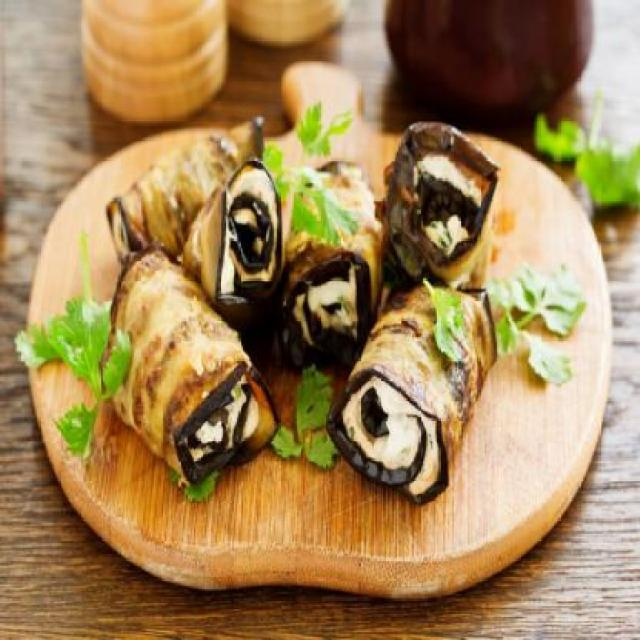eggplant: (105, 100, 500, 543)
hummus: (340, 376, 445, 489), (216, 161, 278, 294), (291, 258, 358, 357), (418, 148, 478, 248), (184, 384, 268, 451), (108, 212, 130, 257)
